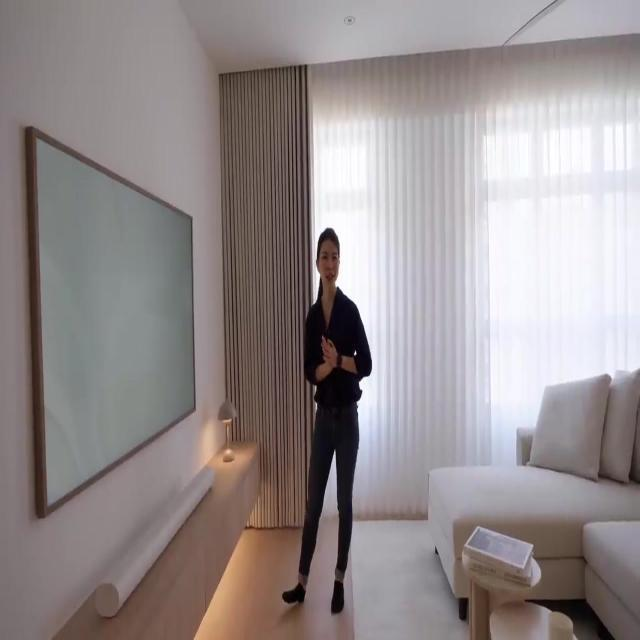obstacle: (426, 366, 640, 623)
person: (282, 226, 372, 614)
